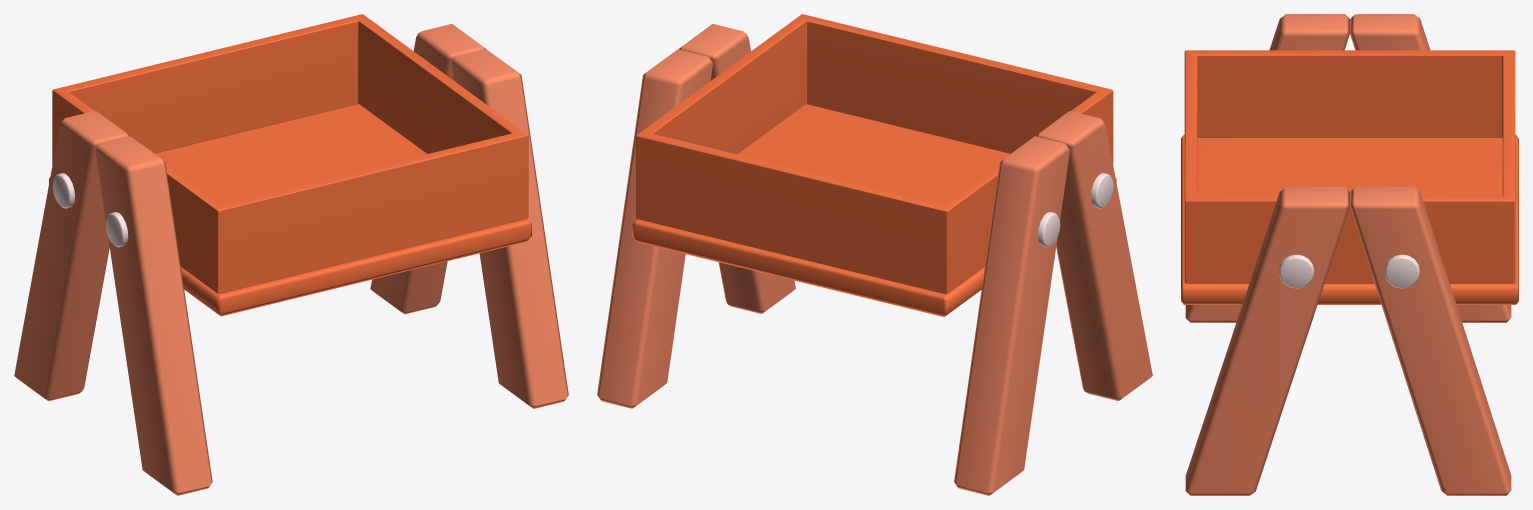
File: Store_19_Rack_1.glb
3 views of the same model, side by side, from view 1: azimuth 30°, elevation 25°; view 2: azimuth 150°, elevation 25°; view 3: azimuth 270°, elevation 25° (orthographic).
Visible parts, largest first — view 1: Store_19_Rack_1; view 2: Store_19_Rack_1; view 3: Store_19_Rack_1.
Part boxes in pixels (bbox=[...]): Store_19_Rack_1: bbox=[14, 14, 568, 495]; Store_19_Rack_1: bbox=[597, 14, 1152, 495]; Store_19_Rack_1: bbox=[1181, 14, 1518, 495].
Bounding box in the file's own units: 1.3 × 0.8991 × 0.936.
1 material, 1 textured.
